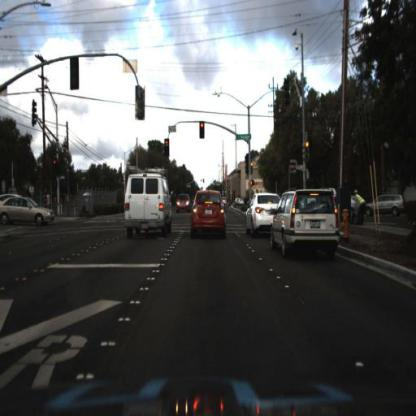car: (269, 181, 344, 261), (119, 171, 181, 246), (186, 183, 226, 242), (1, 190, 53, 234), (1, 195, 58, 230), (247, 192, 281, 238), (245, 192, 276, 241), (369, 191, 404, 220), (175, 190, 191, 217), (177, 193, 191, 212)
pedestrian: (355, 186, 367, 228), (352, 186, 365, 224)
trafficLight: (165, 138, 172, 155)
trafficLight-Red: (303, 140, 313, 165), (305, 140, 314, 158), (249, 159, 257, 177), (52, 156, 58, 179), (200, 121, 206, 143), (248, 160, 255, 175)
trafficLight-RedLeft: (50, 155, 60, 179)
